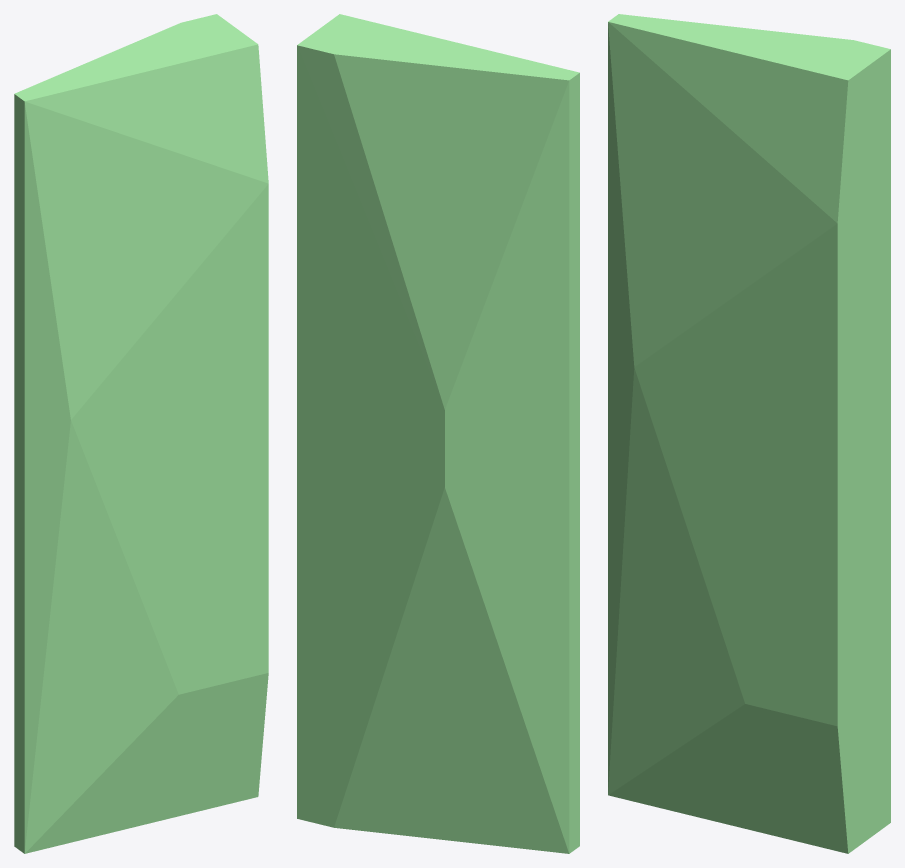
The model's file is rambler_robot_base_coll_49.dae.
The picture shows the model from 3 angles, left to right: view 1: azimuth 30°, elevation 25°; view 2: azimuth 150°, elevation 25°; view 3: azimuth 330°, elevation 25°; orthographic projection. The views are drawn at different scales.
Parts seen in each view (by area): view 1: Node_0x7fe0fc4d5380; view 2: Node_0x7fe0fc4d5380; view 3: Node_0x7fe0fc4d5380.
Boxes of the visible parts, x1,y1,x2,y2 form: Node_0x7fe0fc4d5380: (14, 14, 268, 853); Node_0x7fe0fc4d5380: (297, 14, 579, 853); Node_0x7fe0fc4d5380: (608, 14, 890, 853).
Bounding box in the file's own units: 0.178 × 0.5474 × 0.0684.
